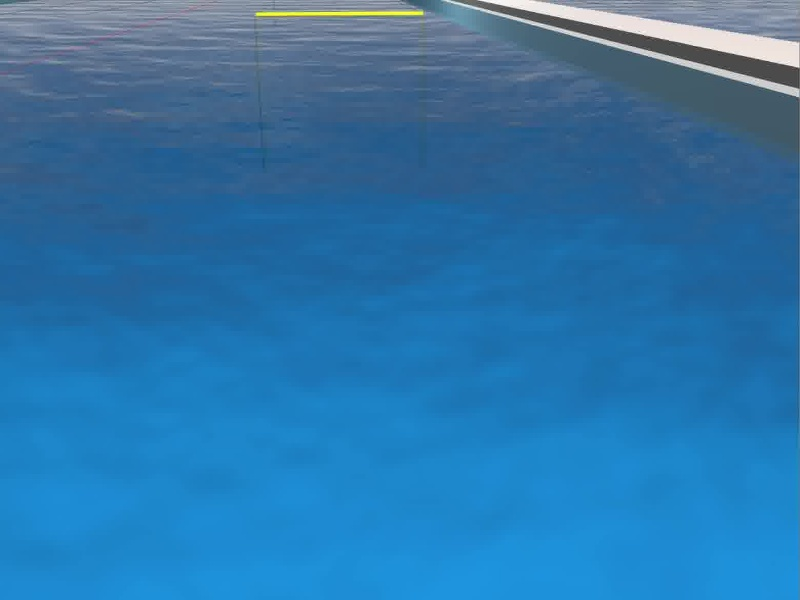gate: (253, 10, 429, 171)
